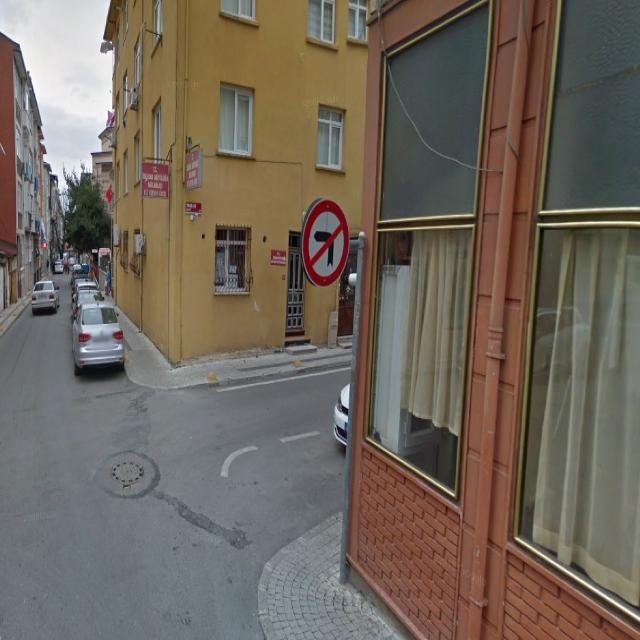soladonulmez: (303, 200, 349, 286)
